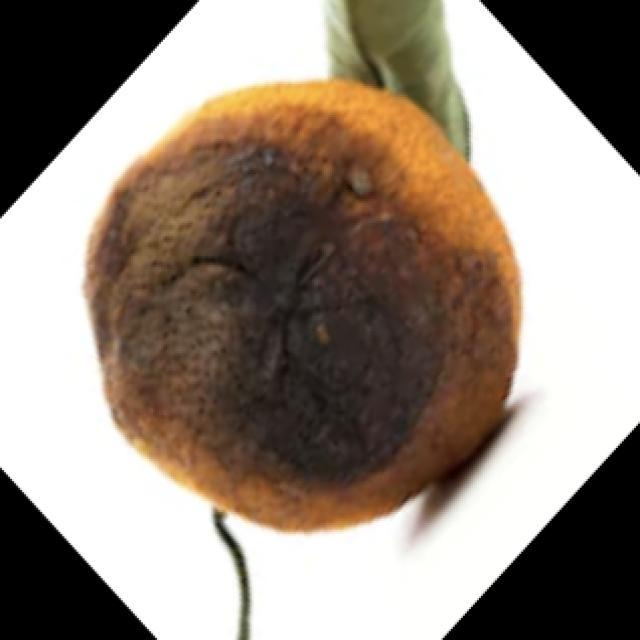sangat-busuk: (85, 80, 521, 531)
